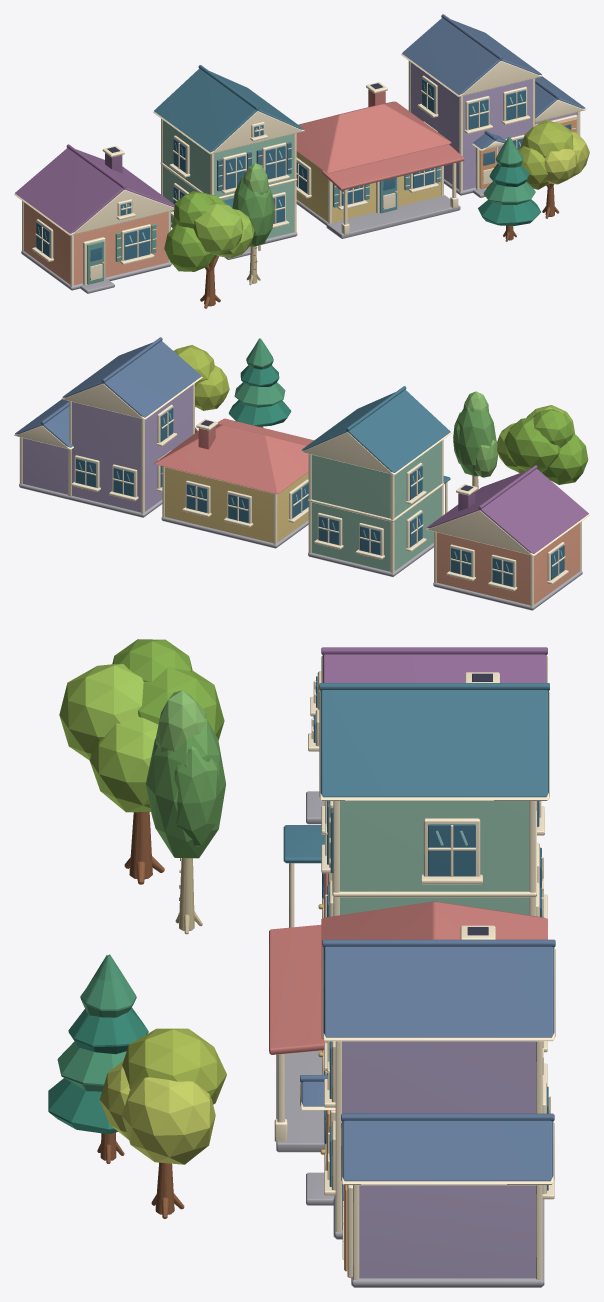
The model's file is Neighborhood.glb.
3 views of the same model, one above another, from view 1: azimuth 30°, elevation 25°; view 2: azimuth 150°, elevation 25°; view 3: azimuth 270°, elevation 25° (orthographic). The views are drawn at different scales.
Visible parts, largest first — view 1: House_Bungalow_Mesh, House_Family_Mesh, House_Cottage_Mesh, House_Townhouse_Mesh, Tree_Broadoak_Mesh, Tree_Roundmaple_Mesh, Tree_Tieredpine_Mesh, Tree_Slenderpoplar_Mesh; view 2: House_Family_Mesh, House_Townhouse_Mesh, House_Cottage_Mesh, House_Bungalow_Mesh, Tree_Broadoak_Mesh, Tree_Tieredpine_Mesh, Tree_Slenderpoplar_Mesh, Tree_Roundmaple_Mesh; view 3: House_Family_Mesh, House_Townhouse_Mesh, House_Bungalow_Mesh, Tree_Broadoak_Mesh, Tree_Roundmaple_Mesh, Tree_Slenderpoplar_Mesh, Tree_Tieredpine_Mesh, House_Cottage_Mesh.
Part boxes in pixels (x1,y1,x2,y2): House_Bungalow_Mesh: (296, 82, 464, 238); House_Family_Mesh: (401, 14, 586, 197); House_Cottage_Mesh: (14, 144, 174, 293); House_Townhouse_Mesh: (153, 65, 304, 259); Tree_Broadoak_Mesh: (164, 191, 254, 308); Tree_Roundmaple_Mesh: (518, 120, 589, 218); Tree_Tieredpine_Mesh: (478, 136, 540, 241); Tree_Slenderpoplar_Mesh: (232, 163, 274, 285); House_Family_Mesh: (14, 337, 202, 517); House_Townhouse_Mesh: (300, 386, 451, 576); House_Cottage_Mesh: (426, 465, 589, 610); House_Bungalow_Mesh: (154, 418, 313, 548); Tree_Broadoak_Mesh: (497, 405, 588, 484); Tree_Tieredpine_Mesh: (228, 338, 291, 427); Tree_Slenderpoplar_Mesh: (453, 391, 498, 491); Tree_Roundmaple_Mesh: (174, 345, 229, 432); House_Family_Mesh: (300, 939, 555, 1287); House_Townhouse_Mesh: (283, 683, 549, 927); House_Bungalow_Mesh: (269, 901, 547, 1152); Tree_Broadoak_Mesh: (59, 639, 224, 884); Tree_Roundmaple_Mesh: (99, 1028, 226, 1218); Tree_Slenderpoplar_Mesh: (146, 690, 225, 934); Tree_Tieredpine_Mesh: (48, 954, 148, 1163); House_Cottage_Mesh: (306, 647, 547, 835).
Bounding box in the file's own units: 27.56 × 7.19 × 11.66.
